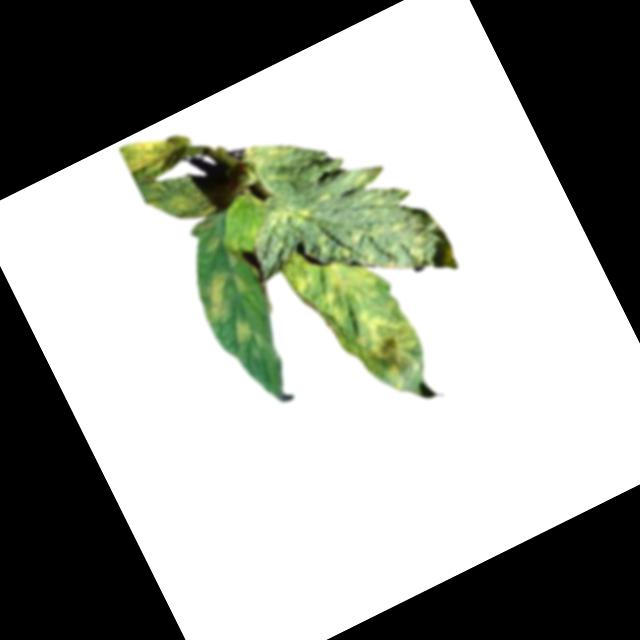Leaf_Mold: (278, 222, 439, 419), (118, 118, 195, 186), (239, 125, 309, 193), (263, 194, 315, 242), (198, 274, 243, 321), (230, 314, 261, 347)
